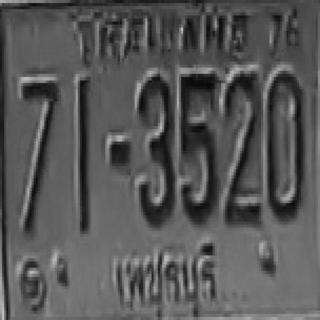N00: (265, 71, 303, 218)
N01: (76, 77, 91, 218)
N02: (224, 72, 260, 208)
N03: (136, 74, 174, 225)
N05: (179, 71, 217, 222)
N07: (21, 78, 59, 229), (22, 80, 58, 176)
P44: (108, 238, 222, 315)
